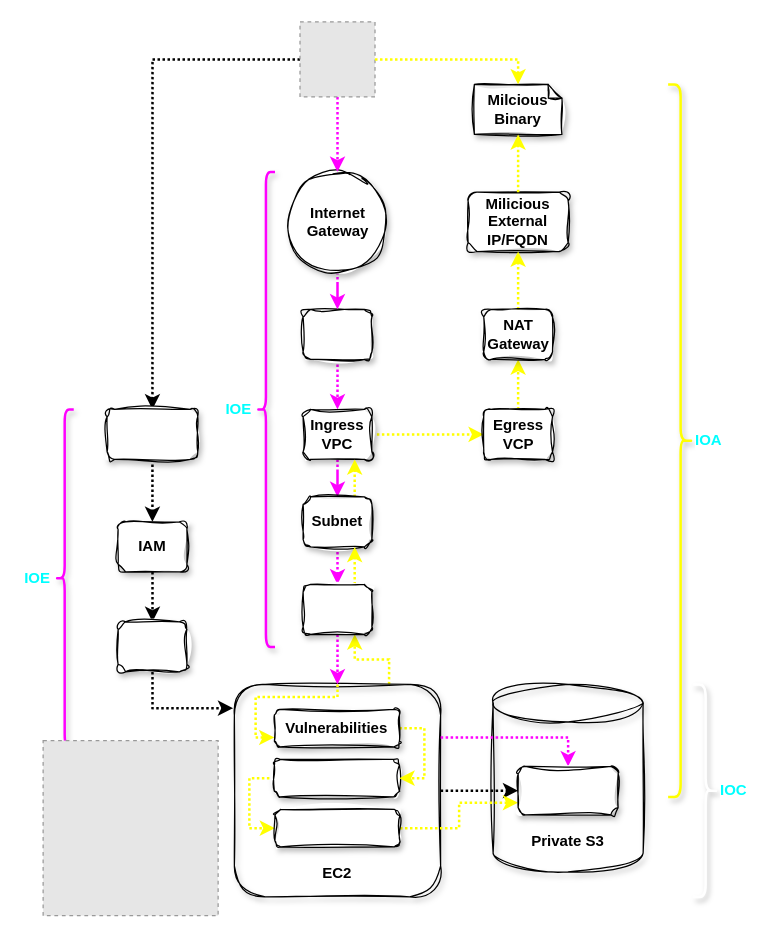
The diagram is 770 pixels wide and 938 high, and some of its shapes have lost their labels. Grey dashed boxes stand in for pictures. Each missing label, with the centre of its shape:
Malware/Process: (x=337, y=779)
Management API: (x=153, y=435)
Memory: (x=338, y=829)
nic: (x=338, y=610)
NLB: (x=338, y=335)
Role: (x=153, y=648)
Sensitive Data: (x=569, y=792)
